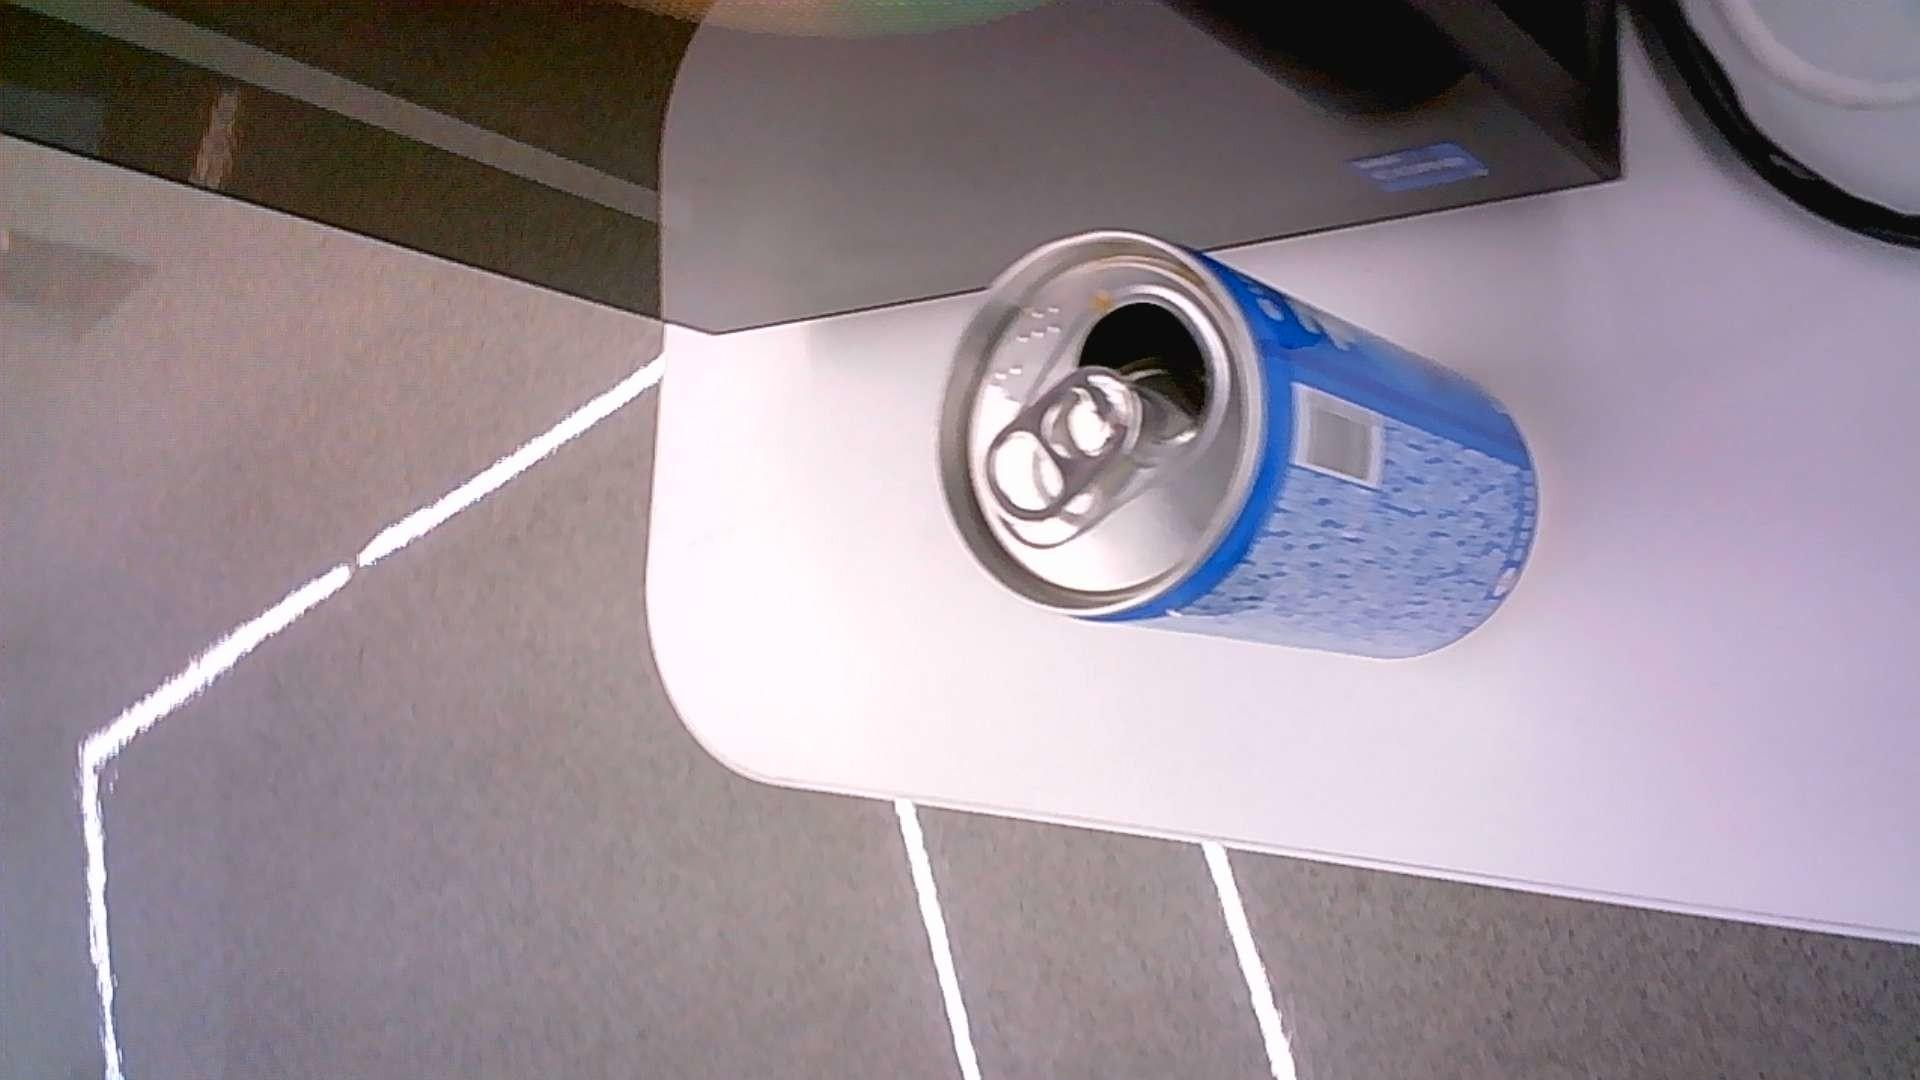letsbe: (935, 227, 1543, 661)
